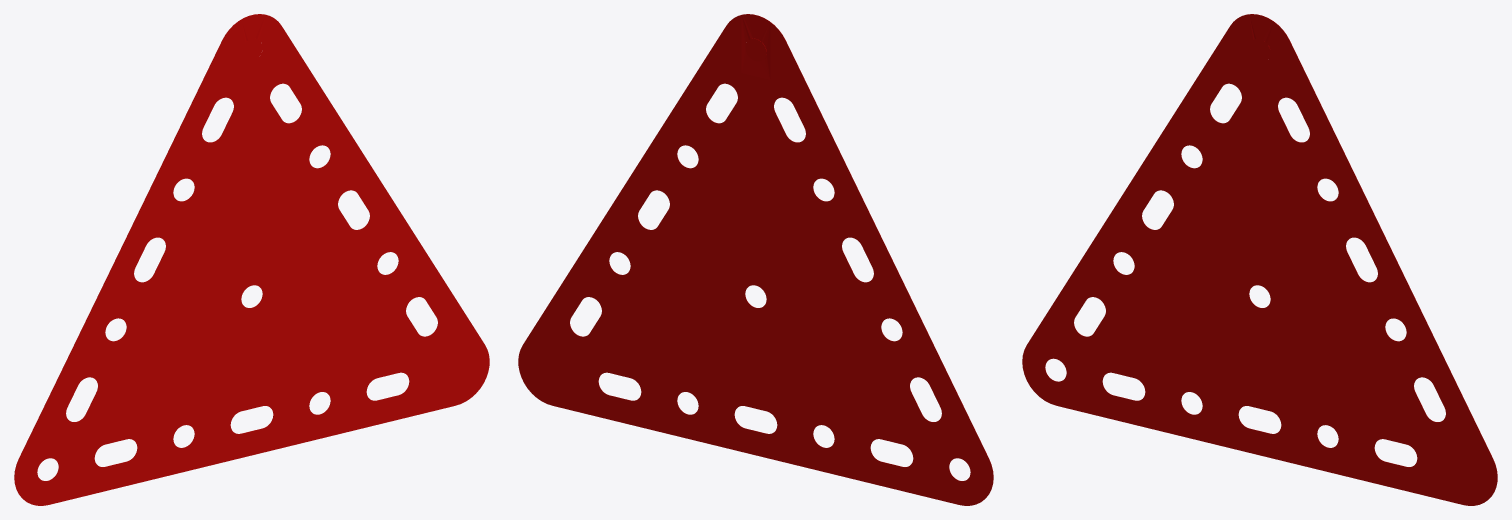
Rendered from TamGiac_NhuaMem_Do.glb.
3 renders of one model, left to right at view 1: azimuth 30°, elevation 25°; view 2: azimuth 150°, elevation 25°; view 3: azimuth 330°, elevation 25°, orthographic.
Parts seen in each view (by area): view 1: defaultobject; view 2: defaultobject; view 3: defaultobject.
Boxes of the visible parts, x1=… form: defaultobject: x1=14, y1=14, x2=489, y2=505; defaultobject: x1=518, y1=14, x2=993, y2=505; defaultobject: x1=1022, y1=14, x2=1497, y2=505.
Size of the model in its own units: 222 by 196 by 0.126.
